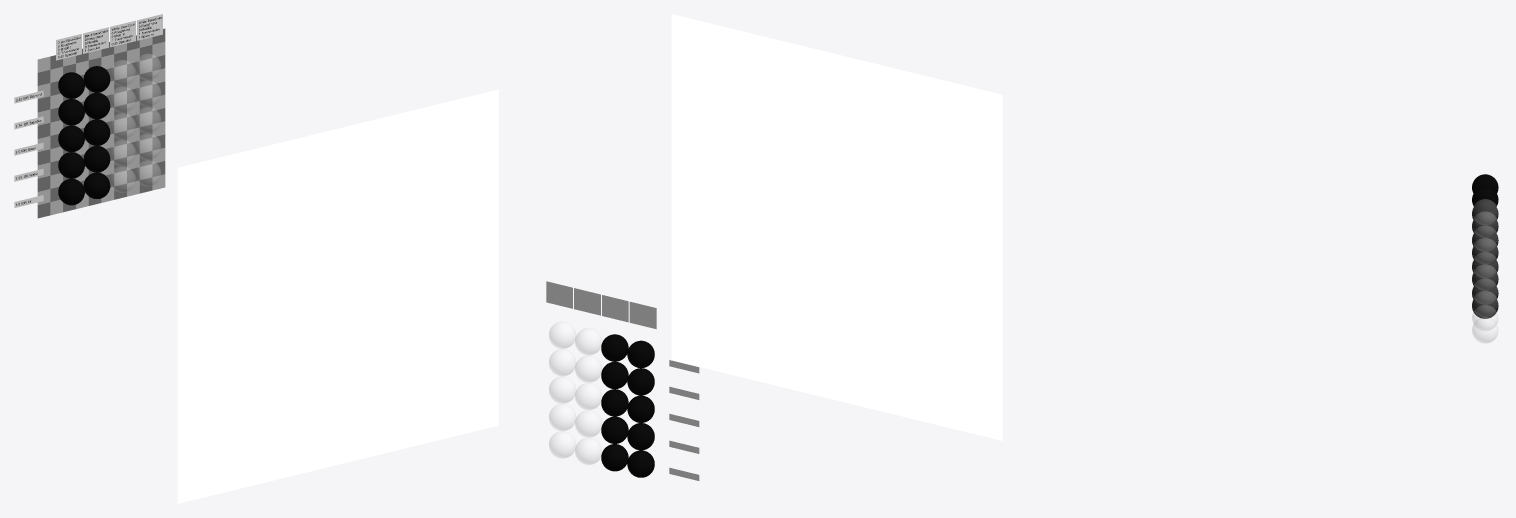
Rendered from khronos ior grid.gltf.
3 views of the same model, side by side, from view 1: azimuth 30°, elevation 25°; view 2: azimuth 150°, elevation 25°; view 3: azimuth 270°, elevation 25° (orthographic). The views are drawn at different scales.
Visible parts, largest first — view 1: Plane, Backdrop, Text Backdrop, Text, IOR1.0_Black_R0_M0_T0_S0.25, IOR1.5_Black_R0_M0_T0_S1, IOR1.33_Black_R0_M0_T0_S0.25, IOR1.76_Black_R0_M0_T0_S1, IOR2.42_Black_R0_M0_T0_S0.25, IOR2.42_Black_R0_M0_T0_S1, IOR1.0_Black_R0_M0_T0_S1, IOR1.33_Black_R0_M0_T0_S1 (+12 smaller); view 2: Plane, Text Backdrop, IOR2.42_Black_R0_M0_T0_S0.25, IOR1.0_Black_R0_M0_T0_S1, IOR1.5_Black_R0_M0_T0_S0.25, IOR1.33_Black_R0_M0_T0_S0.25, IOR1.76_Black_R0_M0_T0_S1, IOR1.33_Black_R0_M0_T0_S1, IOR1.0_Black_R0_M0_T0_S0.25, IOR1.5_Black_R0_M0_T0_S1, IOR1.76_Black_R0_M0_T0_S0.25, IOR2.42_Black_R0_M0_T0_S1 (+10 smaller); view 3: IOR1.33_Black_R0_M0_T0_S1, IOR1.76_Black_R0_M0_T0_S1, IOR2.42_Black_R0_M0_T0_S1, IOR1.0_Black_R0_M0_T0_S1, IOR1.5_Black_R0_M0_T0_S1, IOR1.33_White_R0_M0_T1_S1, IOR1.76_White_R0_M0_T1_S1, IOR1.0_White_R0_M0_T1_S1, IOR1.5_White_R0_M0_T1_S1, IOR2.42_White_R0_M0_T1_S1, IOR1.5_White_R0_M0_T1_S0.25, IOR2.42_White_R0_M0_T1_S0.25 (+3 smaller).
Boxes of the visible parts, box(x1,y1,x2,y2) form: Plane: box(177, 89, 498, 503); Backdrop: box(37, 28, 165, 218); Text Backdrop: box(14, 14, 162, 207); Text: box(16, 17, 161, 205); IOR1.0_Black_R0_M0_T0_S0.25: box(58, 178, 84, 205); IOR1.5_Black_R0_M0_T0_S1: box(83, 119, 110, 145); IOR1.33_Black_R0_M0_T0_S0.25: box(58, 152, 84, 178); IOR1.76_Black_R0_M0_T0_S1: box(83, 92, 110, 119); IOR2.42_Black_R0_M0_T0_S0.25: box(58, 72, 84, 98); IOR2.42_Black_R0_M0_T0_S1: box(83, 66, 110, 92); IOR1.0_Black_R0_M0_T0_S1: box(83, 172, 110, 198); IOR1.33_Black_R0_M0_T0_S1: box(83, 146, 110, 172); Plane: box(671, 14, 1002, 440); Text Backdrop: box(546, 281, 699, 480); IOR2.42_Black_R0_M0_T0_S0.25: box(627, 340, 654, 368); IOR1.0_Black_R0_M0_T0_S1: box(601, 444, 628, 471); IOR1.5_Black_R0_M0_T0_S0.25: box(627, 395, 654, 422); IOR1.33_Black_R0_M0_T0_S0.25: box(627, 423, 654, 450); IOR1.76_Black_R0_M0_T0_S1: box(601, 361, 628, 389); IOR1.33_Black_R0_M0_T0_S1: box(601, 416, 628, 443); IOR1.0_Black_R0_M0_T0_S0.25: box(627, 450, 654, 477); IOR1.5_Black_R0_M0_T0_S1: box(601, 389, 628, 416); IOR1.76_Black_R0_M0_T0_S0.25: box(627, 368, 654, 395); IOR2.42_Black_R0_M0_T0_S1: box(601, 334, 628, 361); IOR1.33_Black_R0_M0_T0_S1: box(1472, 266, 1498, 292); IOR1.76_Black_R0_M0_T0_S1: box(1472, 213, 1498, 239); IOR2.42_Black_R0_M0_T0_S1: box(1472, 186, 1498, 212); IOR1.0_Black_R0_M0_T0_S1: box(1472, 292, 1498, 318); IOR1.5_Black_R0_M0_T0_S1: box(1472, 239, 1498, 265); IOR1.33_White_R0_M0_T1_S1: box(1472, 291, 1497, 316); IOR1.76_White_R0_M0_T1_S1: box(1472, 238, 1497, 263); IOR1.0_White_R0_M0_T1_S1: box(1472, 317, 1498, 343); IOR1.5_White_R0_M0_T1_S1: box(1472, 264, 1498, 290); IOR2.42_White_R0_M0_T1_S1: box(1472, 211, 1498, 237); IOR1.5_White_R0_M0_T1_S0.25: box(1472, 252, 1497, 277); IOR2.42_White_R0_M0_T1_S0.25: box(1472, 199, 1497, 224).
Bounding box in the file's own units: 19.35 × 19.35 × 24.7.
24 materials, 1 textured.
